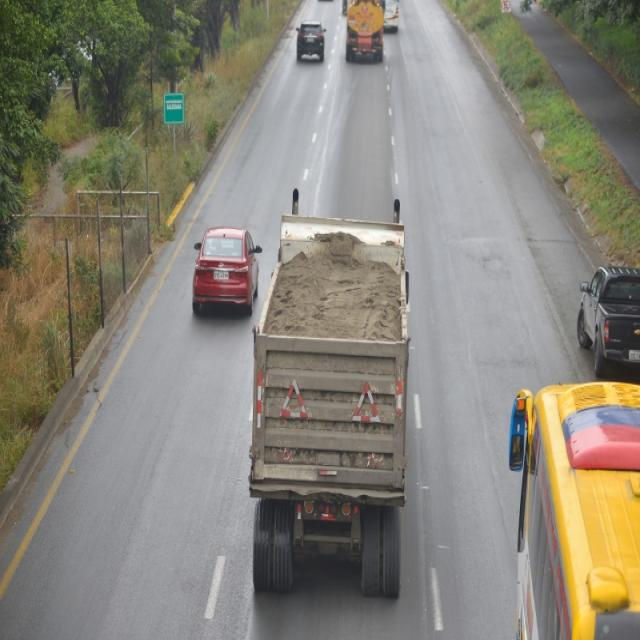BUS: (513, 385, 640, 639)
CMT: (577, 252, 640, 376)
SED: (191, 222, 257, 312)
TRUCK: (244, 203, 408, 604), (346, 2, 385, 64)
